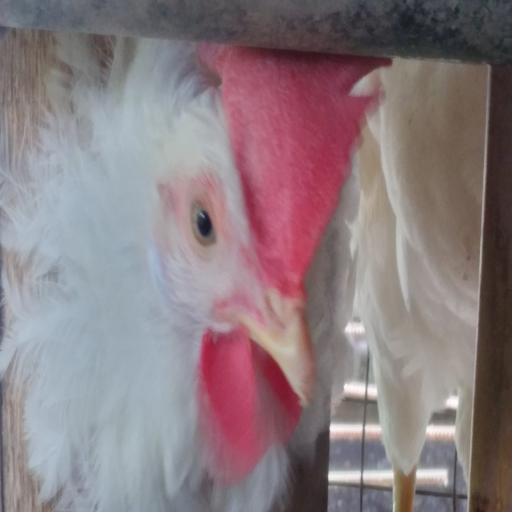healthy: (154, 84, 305, 361)
